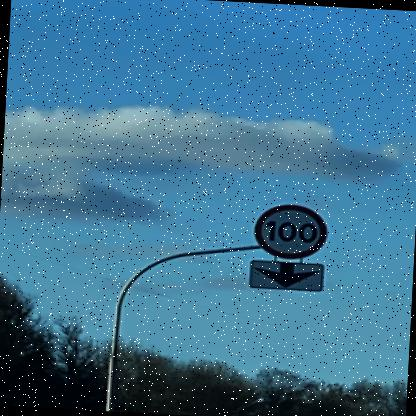speedlimit: (250, 202, 326, 259)
